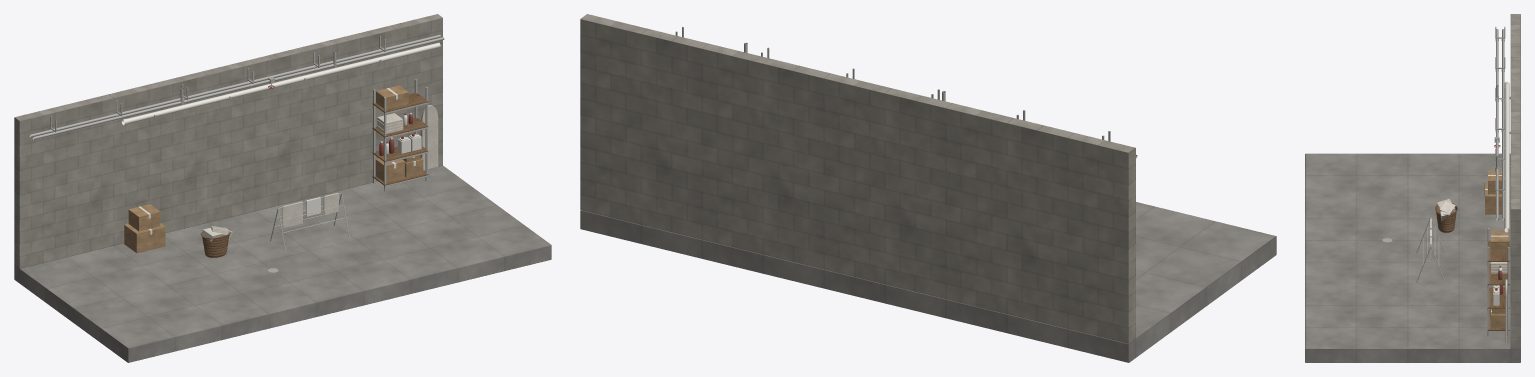
File: Room_Laundry.fbx
The picture shows the model from 3 angles, left to right: view 1: azimuth 30°, elevation 25°; view 2: azimuth 150°, elevation 25°; view 3: azimuth 270°, elevation 25°; orthographic projection. The views are drawn at different scales.
Parts seen in each view (by area): view 1: Laundry_BackWall, Laundry_Floor, Laundry_Pipes, Laundry_ShelfItems, Laundry_Shelving, Laundry_Boxes, Laundry_DryingRack, Laundry_IroningBoard, Laundry_Basket; view 2: Laundry_BackWall, Laundry_Floor; view 3: Laundry_Floor, Laundry_BackWall, Laundry_Pipes, Laundry_Shelving, Laundry_ShelfItems, Laundry_Boxes, Laundry_Basket, Laundry_DryingRack, Laundry_IroningBoard.
Part boxes in pixels (x1,y1,x2,y2): Laundry_BackWall: (14,14,442,268); Laundry_Floor: (14,165,551,362); Laundry_Pipes: (29,34,444,139); Laundry_ShelfItems: (375,85,423,182); Laundry_Shelving: (372,79,428,191); Laundry_Boxes: (124,204,165,253); Laundry_DryingRack: (270,192,349,252); Laundry_IroningBoard: (421,105,438,170); Laundry_Basket: (200,226,233,257); Laundry_BackWall: (580,14,1135,343); Laundry_Floor: (580,202,1276,362); Laundry_Floor: (1305,153,1520,362); Laundry_BackWall: (1510,14,1520,348); Laundry_Pipes: (1494,26,1510,232); Laundry_Shelving: (1487,228,1509,336); Laundry_ShelfItems: (1490,230,1508,328); Laundry_Boxes: (1484,170,1501,214); Laundry_Basket: (1435,198,1457,232); Laundry_DryingRack: (1416,217,1445,282); Laundry_IroningBoard: (1505,279,1508,343).
Bounding box in the file's own units: 900 × 330 × 420.
Materials: 8 (5 with a texture image).
